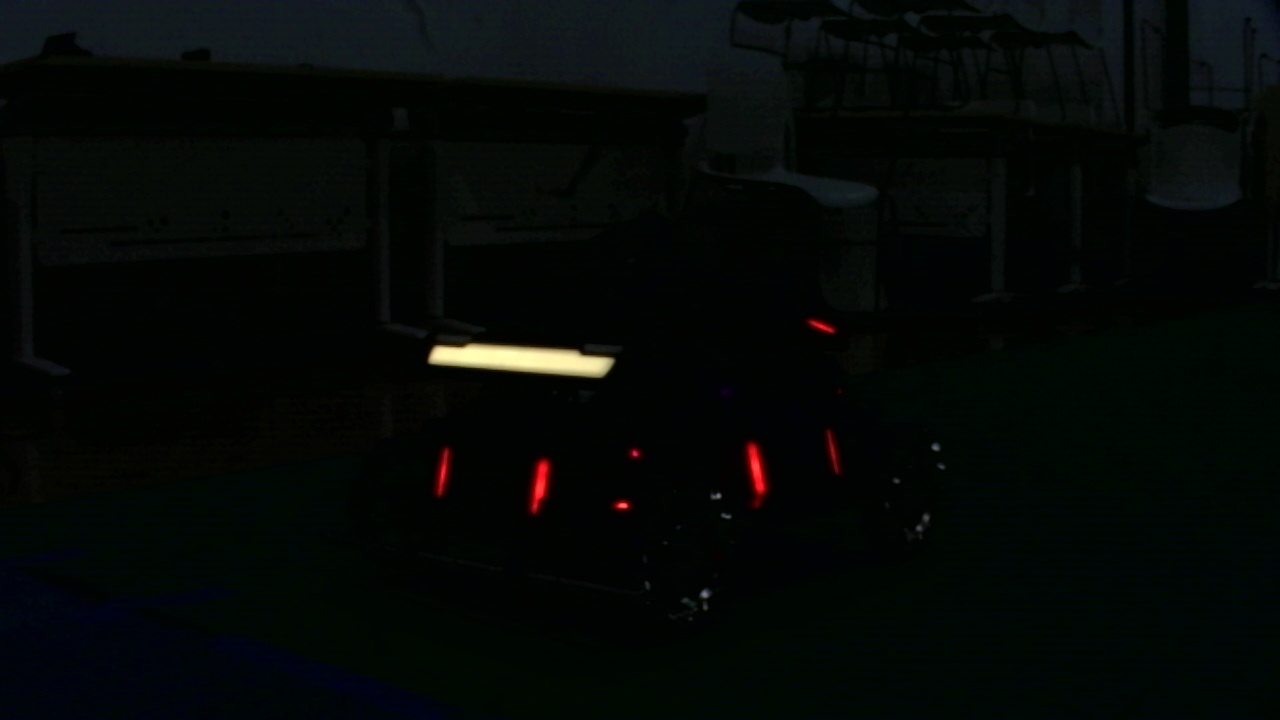lamp: (744, 438, 768, 502)
notpair1: (529, 441, 766, 522)
pair1: (433, 451, 550, 517)
